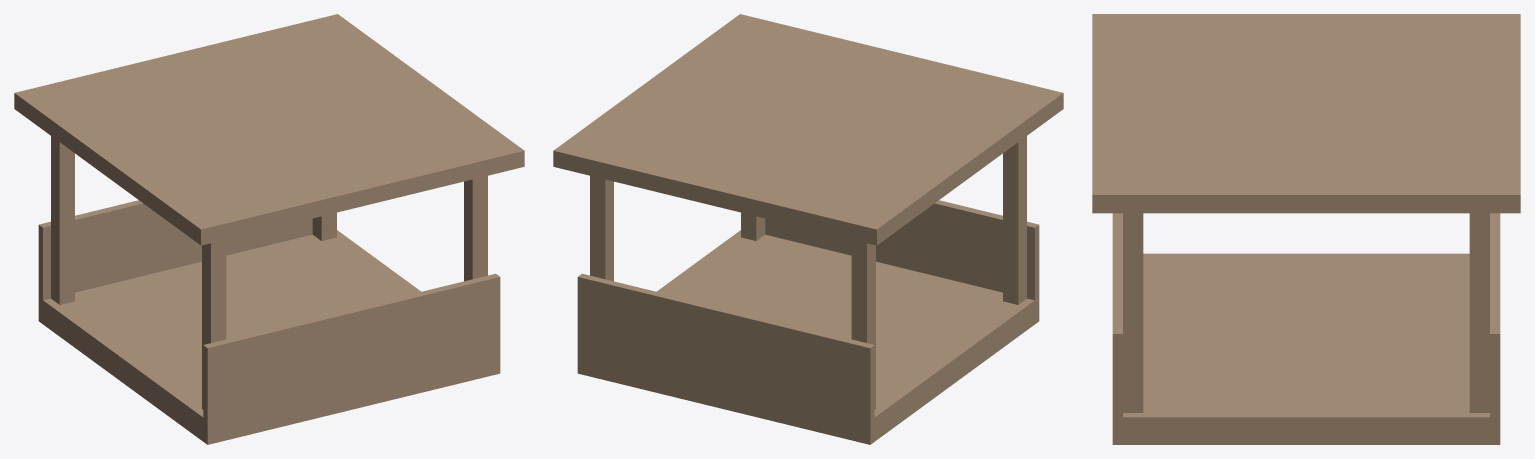
Rendered from tower_top.glb.
The picture shows the model from 3 angles, left to right: view 1: azimuth 30°, elevation 25°; view 2: azimuth 150°, elevation 25°; view 3: azimuth 270°, elevation 25°; orthographic projection. The views are drawn at different scales.
Parts seen in each view (by area): view 1: TOWER_TOP; view 2: TOWER_TOP; view 3: TOWER_TOP.
Part boxes in pixels (box(x1,y1,x2,y2)): TOWER_TOP: box(14, 14, 524, 444); TOWER_TOP: box(553, 14, 1063, 444); TOWER_TOP: box(1092, 14, 1520, 444).
Size of the model in its own units: 4.2 by 2.8 by 4.2.
